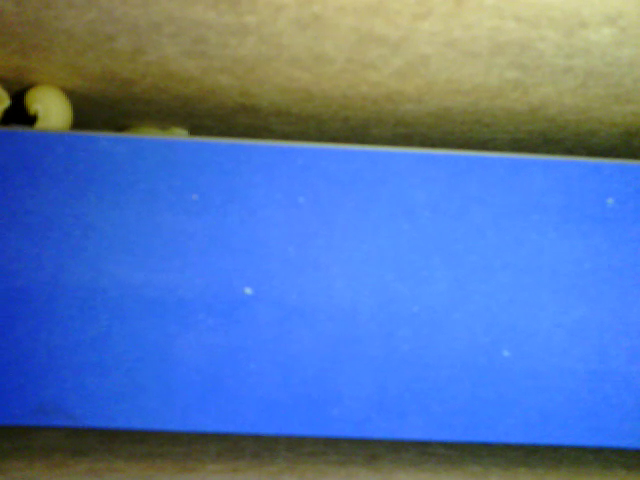shell: (20, 81, 75, 135)
